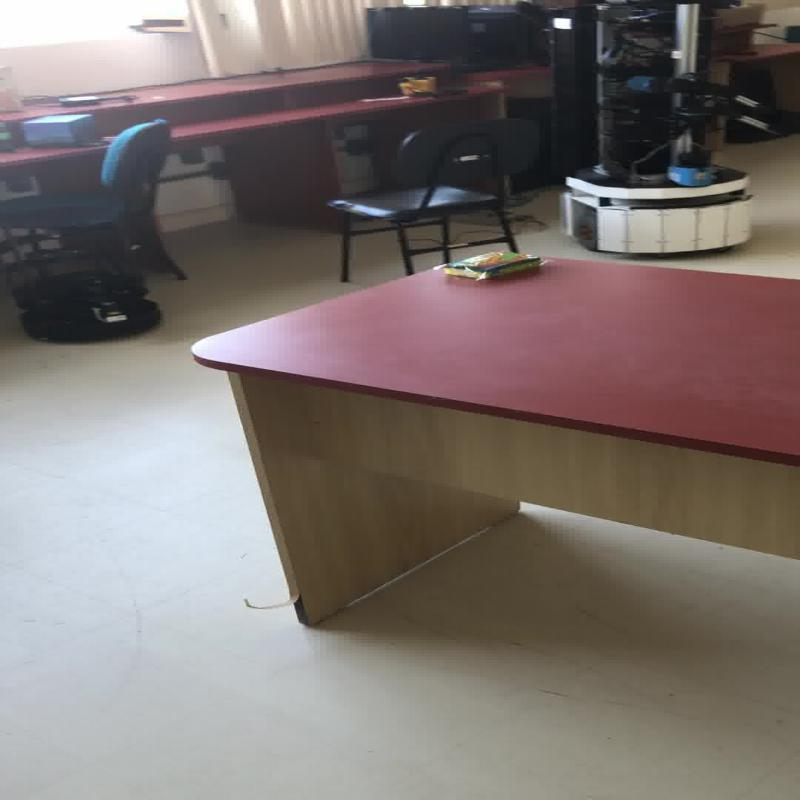sponge: (440, 250, 544, 280)
